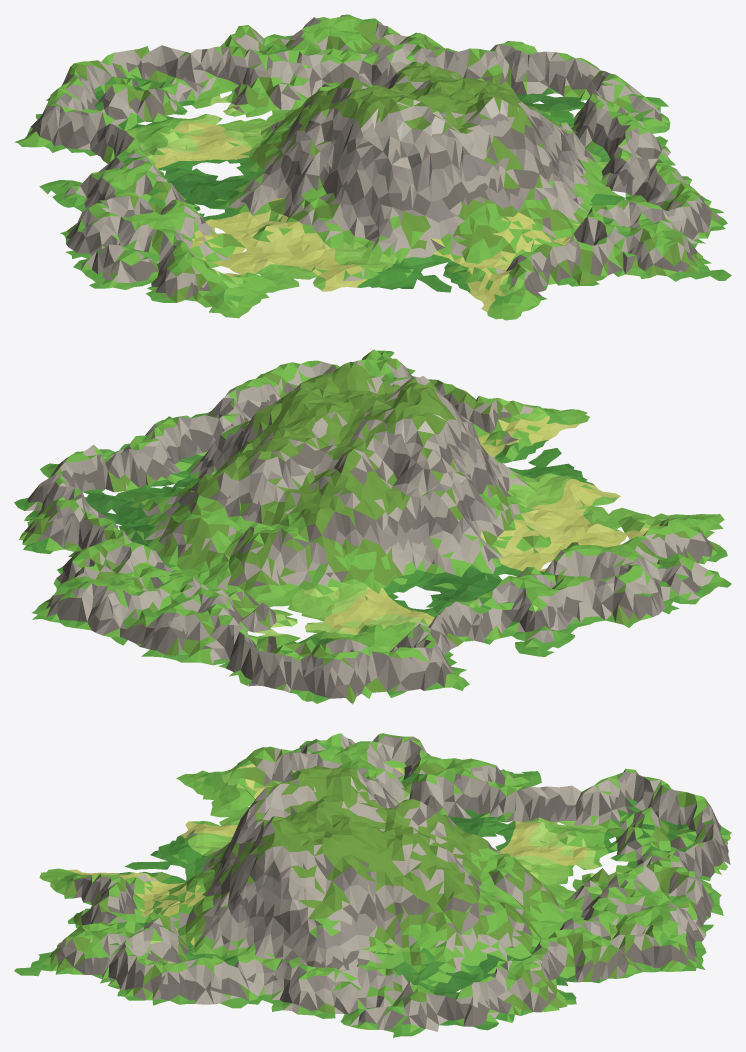
Rendered from Isl-rocky4-Relief.fbx.
3 views of the same model, one above another, from view 1: azimuth 30°, elevation 25°; view 2: azimuth 150°, elevation 25°; view 3: azimuth 270°, elevation 25° (orthographic). The views are drawn at different scales.
Parts seen in each view (by area): view 1: Isl-rocky4-Relief-c12, Isl-rocky4-Relief-c11, Isl-rocky4-Relief-c21, Isl-rocky4-Relief-c22; view 2: Isl-rocky4-Relief-c12, Isl-rocky4-Relief-c22, Isl-rocky4-Relief-c11, Isl-rocky4-Relief-c21; view 3: Isl-rocky4-Relief-c22, Isl-rocky4-Relief-c12, Isl-rocky4-Relief-c21, Isl-rocky4-Relief-c11.
Boxes of the visible parts, <box> form: Isl-rocky4-Relief-c12: <box>14,26,420,279</box>; Isl-rocky4-Relief-c11: <box>89,95,547,320</box>; Isl-rocky4-Relief-c21: <box>430,84,731,286</box>; Isl-rocky4-Relief-c22: <box>239,14,670,155</box>; Isl-rocky4-Relief-c12: <box>162,398,713,704</box>; Isl-rocky4-Relief-c22: <box>14,386,367,657</box>; Isl-rocky4-Relief-c11: <box>368,376,731,588</box>; Isl-rocky4-Relief-c21: <box>125,349,480,460</box>; Isl-rocky4-Relief-c22: <box>322,805,723,1037</box>; Isl-rocky4-Relief-c12: <box>323,733,731,904</box>; Isl-rocky4-Relief-c21: <box>14,804,327,1018</box>; Isl-rocky4-Relief-c11: <box>39,739,326,905</box>.
Size of the model in its own units: 81.2 by 15.25 by 83.3.
